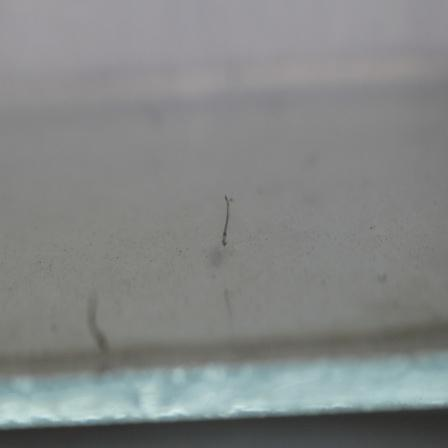Jentik-Nyamuk: (218, 187, 236, 254)
